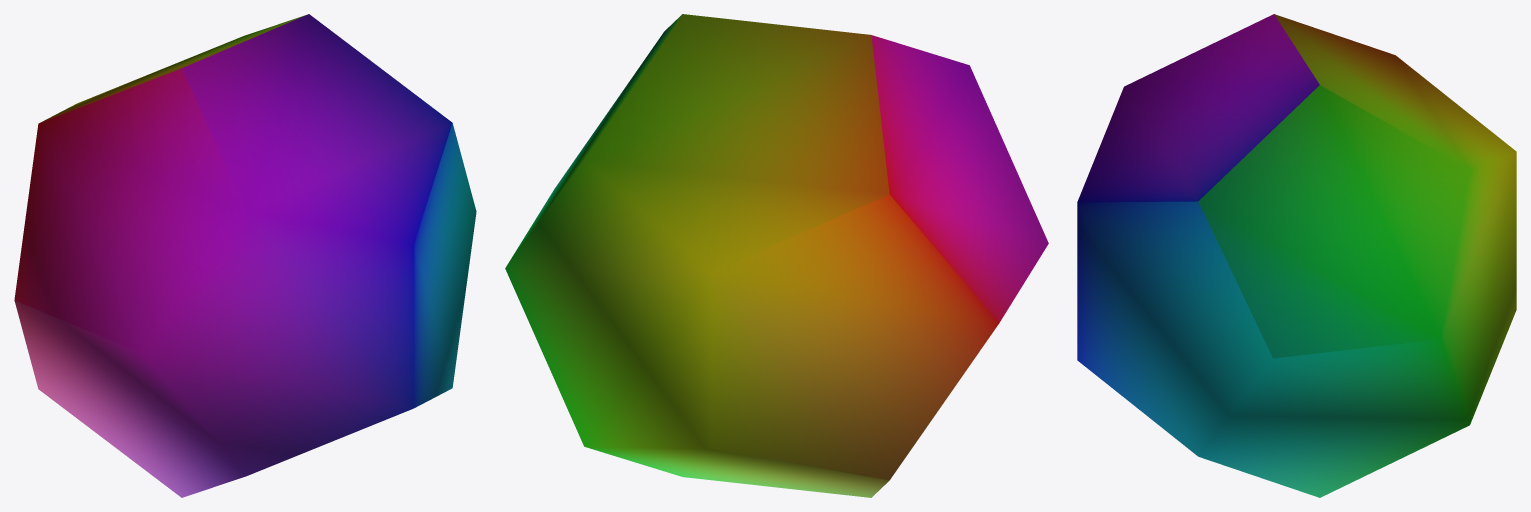
The model's file is zeometry-polyhedra-dodecahedron_v2.glb.
3 views of the same model, side by side, from view 1: azimuth 30°, elevation 25°; view 2: azimuth 150°, elevation 25°; view 3: azimuth 270°, elevation 25° (orthographic). The views are drawn at different scales.
Visible parts, largest first — view 1: Dodecahedron_v2; view 2: Dodecahedron_v2; view 3: Dodecahedron_v2.
Boxes of the visible parts, box(x1,y1,x2,y2) form: Dodecahedron_v2: box(14, 14, 476, 497); Dodecahedron_v2: box(505, 14, 1048, 497); Dodecahedron_v2: box(1077, 14, 1516, 497).
Size of the model in its own units: 0.5 by 0.4693 by 0.4527.
